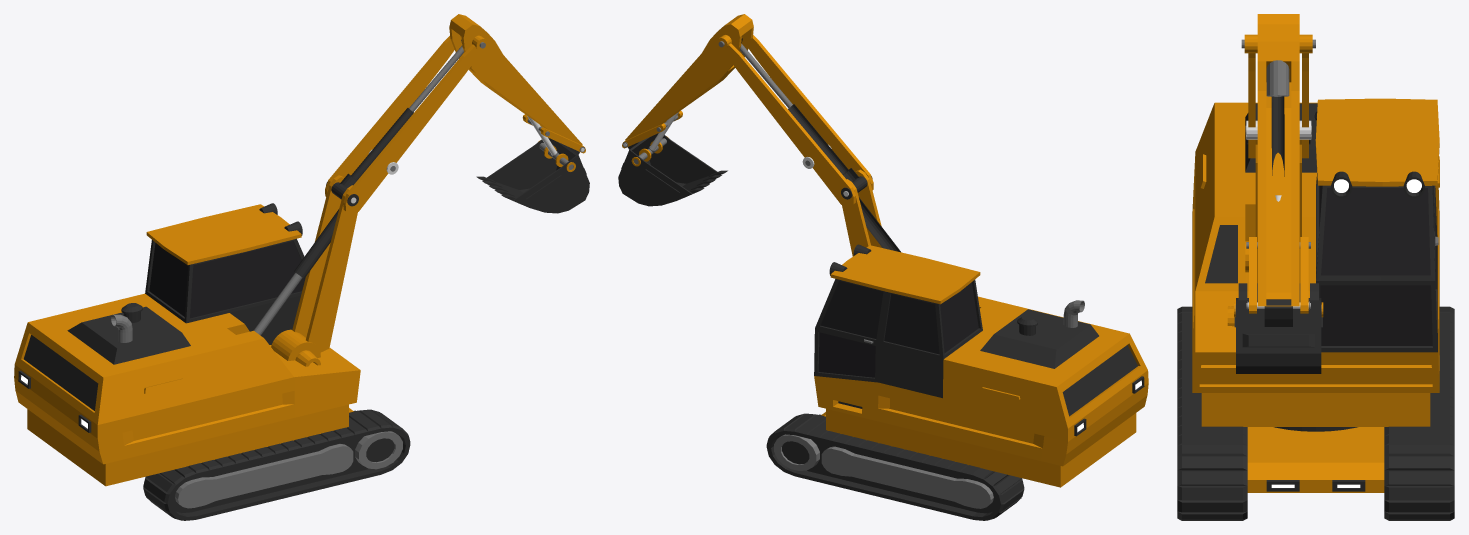
The model's file is excavator_3rd.glb.
3 renders of one model, left to right at view 1: azimuth 30°, elevation 25°; view 2: azimuth 150°, elevation 25°; view 3: azimuth 270°, elevation 25°, orthographic. The views are drawn at different scales.
Visible parts, largest first — view 1: Excavator_Body, Excavator_Tracs, Excavator_Body_Skirt, Excavator_Arm_Long_02, Excavator_Arm_Long_01, Excavator_Bucket, Excavator_Arm_Short, Excavator_Cylinder_01, Excavator_Cylinder_02, Excavator_Idlers, Excavator_Boom_Foot_Boss; view 2: Excavator_Body, Excavator_Tracs, Excavator_Body_Skirt, Excavator_Arm_Long_02, Excavator_Bucket, Excavator_Arm_Short, Excavator_Arm_Long_01, Excavator_Cylinder_02, Excavator_Idlers, Excavator_Cylinder_01; view 3: Excavator_Body, Excavator_Tracs, Excavator_Arm_Short, Excavator_Base, Excavator_Body_Skirt, Excavator_Bucket, Excavator_Cylinder_03, Excavator_Arm_Long_02, Excavator_Arm_Bucket, Excavator_Lights, Excavator_Arm_Long_01, Excavator_Axle_05 (+1 smaller).
Part boxes in pixels (box(x1,y1,x2,y2)): Excavator_Body: box(14, 204, 360, 464); Excavator_Tracs: box(143, 409, 410, 520); Excavator_Body_Skirt: box(27, 404, 348, 486); Excavator_Arm_Long_02: box(325, 36, 481, 213); Excavator_Arm_Long_01: box(292, 175, 357, 352); Excavator_Bucket: box(476, 137, 589, 213); Excavator_Arm_Short: box(449, 14, 582, 144); Excavator_Cylinder_01: box(248, 209, 338, 335); Excavator_Cylinder_02: box(339, 40, 463, 187); Excavator_Idlers: box(355, 431, 402, 469); Excavator_Boom_Foot_Boss: box(271, 329, 320, 360); Excavator_Body: box(814, 245, 1148, 466); Excavator_Tracs: box(766, 413, 1024, 520); Excavator_Body_Skirt: box(826, 408, 1136, 487); Excavator_Arm_Long_02: box(723, 35, 873, 206); Excavator_Bucket: box(618, 133, 727, 206); Excavator_Arm_Short: box(625, 14, 753, 140); Excavator_Arm_Long_01: box(842, 169, 881, 256); Excavator_Cylinder_02: box(739, 38, 859, 181); Excavator_Idlers: box(774, 434, 819, 470); Excavator_Cylinder_01: box(859, 197, 900, 252); Excavator_Body: box(1192, 98, 1439, 392); Excavator_Tracs: box(1177, 306, 1454, 520); Excavator_Arm_Short: box(1257, 14, 1299, 306); Excavator_Base: box(1247, 427, 1384, 492); Excavator_Body_Skirt: box(1201, 393, 1430, 426); Excavator_Bucket: box(1234, 283, 1322, 373); Excavator_Cylinder_03: box(1266, 60, 1289, 201); Excavator_Arm_Long_02: box(1248, 53, 1308, 158); Excavator_Arm_Bucket: box(1249, 237, 1308, 313); Excavator_Lights: box(1331, 171, 1424, 198); Excavator_Arm_Long_01: box(1255, 139, 1301, 283); Excavator_Axle_05: box(1241, 34, 1315, 53).
Bounding box in the file's own units: 9.22 × 6.95 × 2.98.
